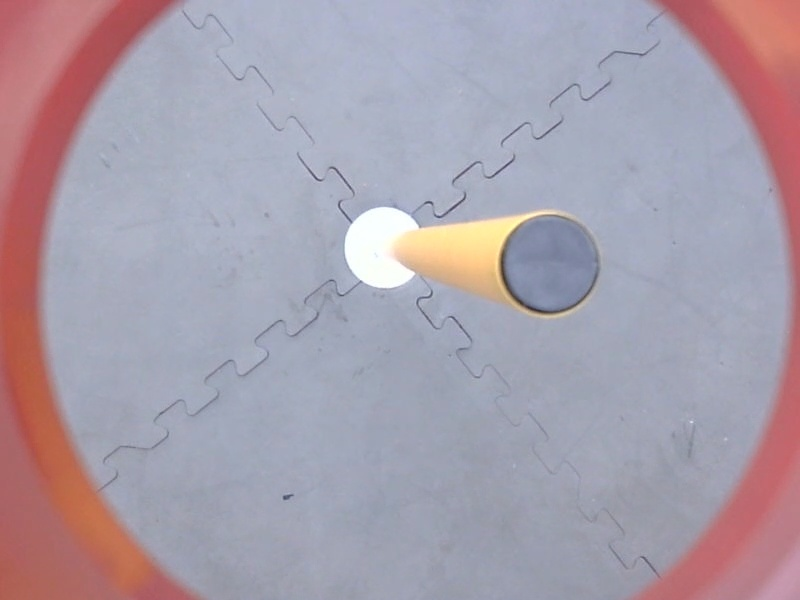tip: (491, 205, 607, 321)
